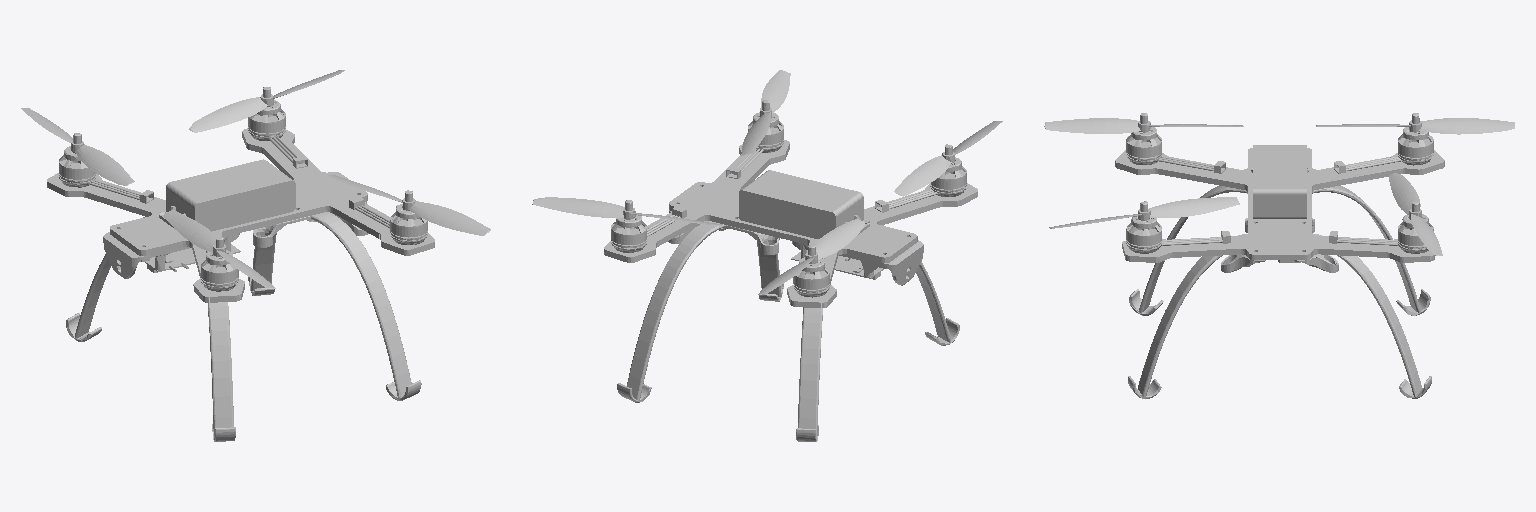
robot.urdf — ddk:
<?xml version="1.0"?>
<!--
/****************************************************************************
 *   Copyright (c) 2018 [author]. All rights reserved.
 *
 * Redistribution and use in source and binary forms, with or without
 * modification, are permitted provided that the following conditions
 * are met:
 *
 * 1. Redistributions of source code must retain the above copyright
 *    notice, this list of conditions and the following disclaimer.
 * 2. Redistributions in binary form must reproduce the above copyright
 *    notice, this list of conditions and the following disclaimer in
 *    the documentation and/or other materials provided with the
 *    distribution.
 * 3. Neither the name ATLFlight nor the names of its contributors may be
 *    used to endorse or promote products derived from this software
 *    without specific prior written permission.
 *
 * NO EXPRESS OR IMPLIED LICENSES TO ANY PARTY'S PATENT RIGHTS ARE GRANTED BY THIS LICENSE.
 * THIS SOFTWARE IS PROVIDED BY THE COPYRIGHT [author]
 * "AS IS" AND ANY EXPRESS OR IMPLIED WARRANTIES, INCLUDING, BUT NOT
 * LIMITED TO, THE IMPLIED WARRANTIES OF MERCHANTABILITY AND FITNESS
 * FOR A PARTICULAR PURPOSE ARE DISCLAIMED. IN NO EVENT SHALL THE
 * COPYRIGHT [author] LIABLE FOR ANY DIRECT, INDIRECT,
 * INCIDENTAL, SPECIAL, EXEMPLARY, OR CONSEQUENTIAL DAMAGES (INCLUDING,
 * BUT NOT LIMITED TO, PROCUREMENT OF SUBSTITUTE GOODS OR SERVICES; LOSS
 * OF USE, DATA, OR PROFITS; OR BUSINESS INTERRUPTION) HOWEVER CAUSED
 * AND ON ANY THEORY OF LIABILITY, WHETHER IN CONTRACT, STRICT
 * LIABILITY, OR TORT (INCLUDING NEGLIGENCE OR OTHERWISE) ARISING IN
 * ANY WAY OUT OF THE USE OF THIS SOFTWARE, EVEN IF ADVISED OF THE
 * POSSIBILITY OF SUCH DAMAGE.
 *
 * In addition Supplemental Terms apply.  See the SUPPLEMENTAL file.
 ****************************************************************************/
-->
<robot name="ddk">
  <link name="base_link">
    <visual>
      <geometry>
        <mesh filename="package://qflight_descriptions/meshes/ddk.stl"/>
      </geometry>
      <origin rpy="1.57079632679 0 -1.57079632679" xyz="0 0 -0.004"/>
      <material name="white">
        <color rgba="0.8 0.8 0.8 1"/>
      </material>
    </visual>
  </link>
</robot>

--- What the picture shows (computed from the rendered views, not written in the file) ---
The picture shows the robot from 3 angles, left to right: view 1: azimuth 30°, elevation 25°; view 2: azimuth 150°, elevation 25°; view 3: azimuth 270°, elevation 25°; orthographic projection.
Model ddk with 1 links and 0 joints (none), rooted at base_link, posed all joints at 0.
Visible links, largest first — view 1: base_link; view 2: base_link; view 3: base_link.
Link boxes in pixels (x1,y1,x2,y2): base_link: [21, 70, 490, 441]; base_link: [532, 70, 1002, 441]; base_link: [1044, 113, 1514, 398].
Bounding box of the posed robot: 0.2174 × 0.2999 × 0.1372 m (x, y, z).
Meshes: 1 distinct files referenced, 1 mesh visuals loaded (1 binary STL).